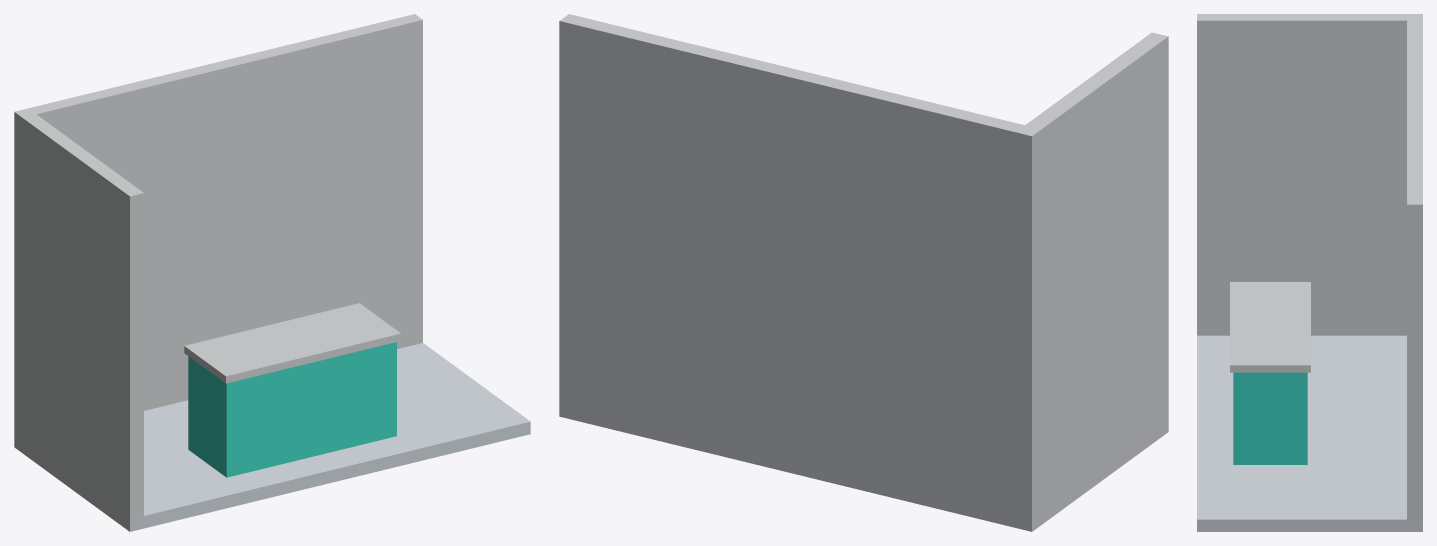
3 renders of one model, left to right at view 1: azimuth 30°, elevation 25°; view 2: azimuth 150°, elevation 25°; view 3: azimuth 270°, elevation 25°, orthographic. The views are drawn at different scales.
Parts seen in each view (by area): view 1: Exhibition Booth Concept; view 2: Exhibition Booth Concept; view 3: Exhibition Booth Concept.
Boxes of the visible parts, box(x1,y1,x2,y2) form: Exhibition Booth Concept: box(14, 14, 530, 531); Exhibition Booth Concept: box(559, 14, 1168, 531); Exhibition Booth Concept: box(1197, 14, 1422, 531).
Bounding box in the file's own units: 4 × 3.2 × 2.
